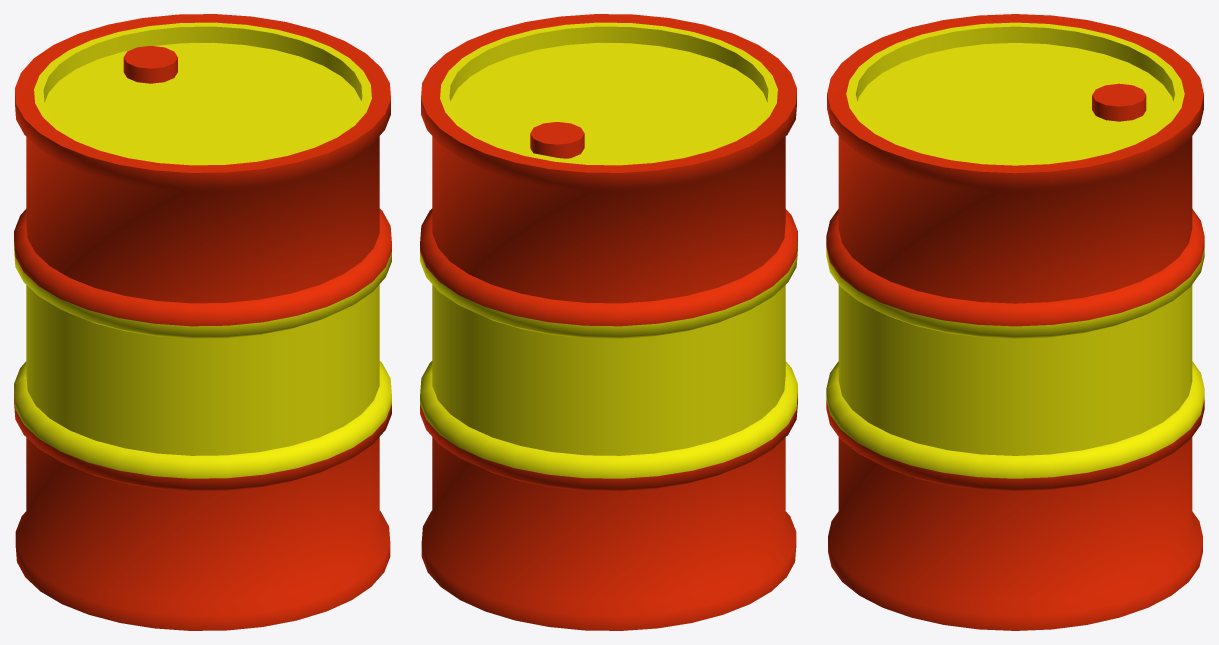
The model's file is Barrel.fbx.
3 renders of one model, left to right at view 1: azimuth 30°, elevation 25°; view 2: azimuth 150°, elevation 25°; view 3: azimuth 270°, elevation 25°, orthographic.
Parts seen in each view (by area): view 1: Barrel; view 2: Barrel; view 3: Barrel.
Boxes of the visible parts, x1,y1,x2,y2 form: Barrel: (14,14,391,630); Barrel: (420,14,797,630); Barrel: (826,14,1204,630).
Size of the model in its own units: 78 by 104 by 78.
